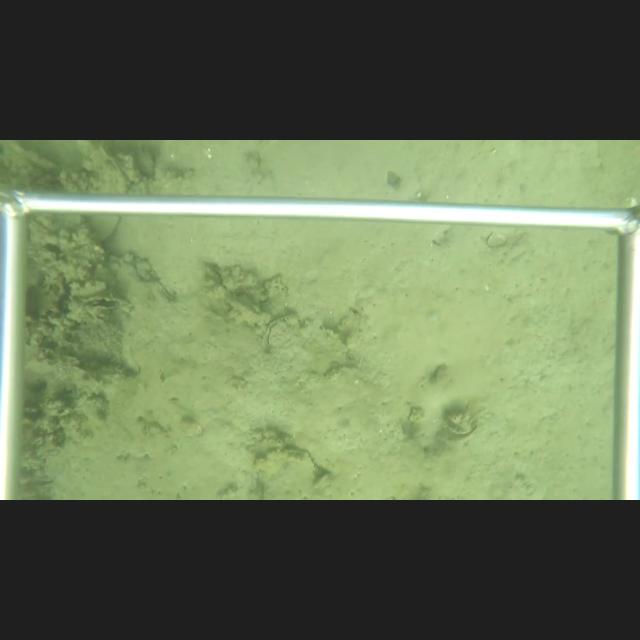Oyster-Closed: (259, 444, 317, 500), (261, 316, 295, 348)
Oyster-Open: (80, 289, 130, 313), (444, 422, 480, 451)
